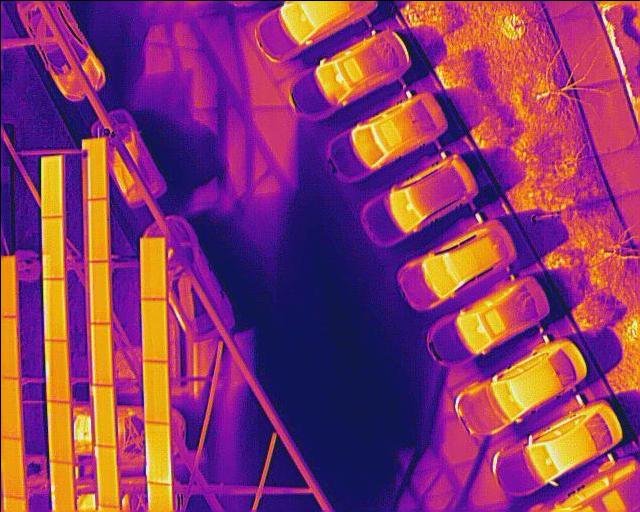No-Anomaly: (142, 358, 169, 428), (142, 295, 169, 364), (84, 197, 110, 264), (140, 236, 166, 301), (88, 319, 113, 386), (87, 259, 112, 325), (90, 384, 115, 449), (94, 443, 118, 508), (0, 437, 25, 498), (47, 398, 70, 464), (41, 215, 64, 278), (40, 154, 62, 217), (87, 137, 108, 198)
Unclassified: (143, 419, 171, 486), (42, 276, 67, 342), (44, 339, 69, 404), (49, 459, 72, 512)
